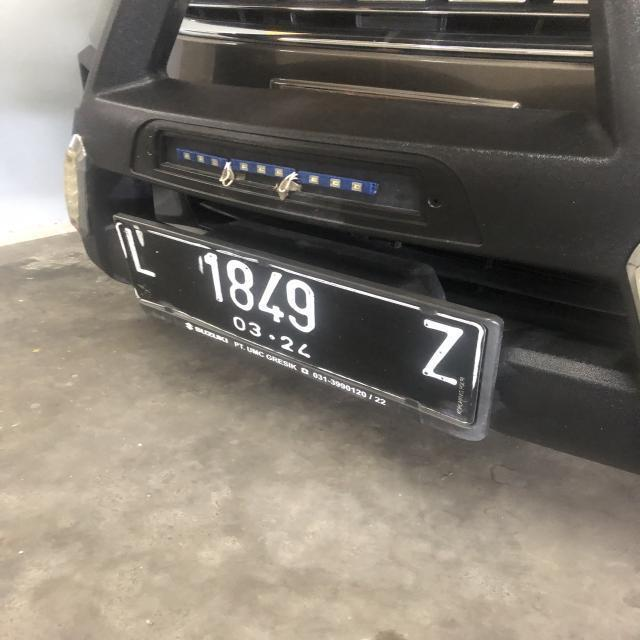1: (200, 250, 227, 304)
4: (258, 270, 286, 330)
8: (225, 258, 257, 312)
9: (284, 275, 323, 338)
L: (124, 224, 161, 282)
Z: (416, 314, 473, 394)
